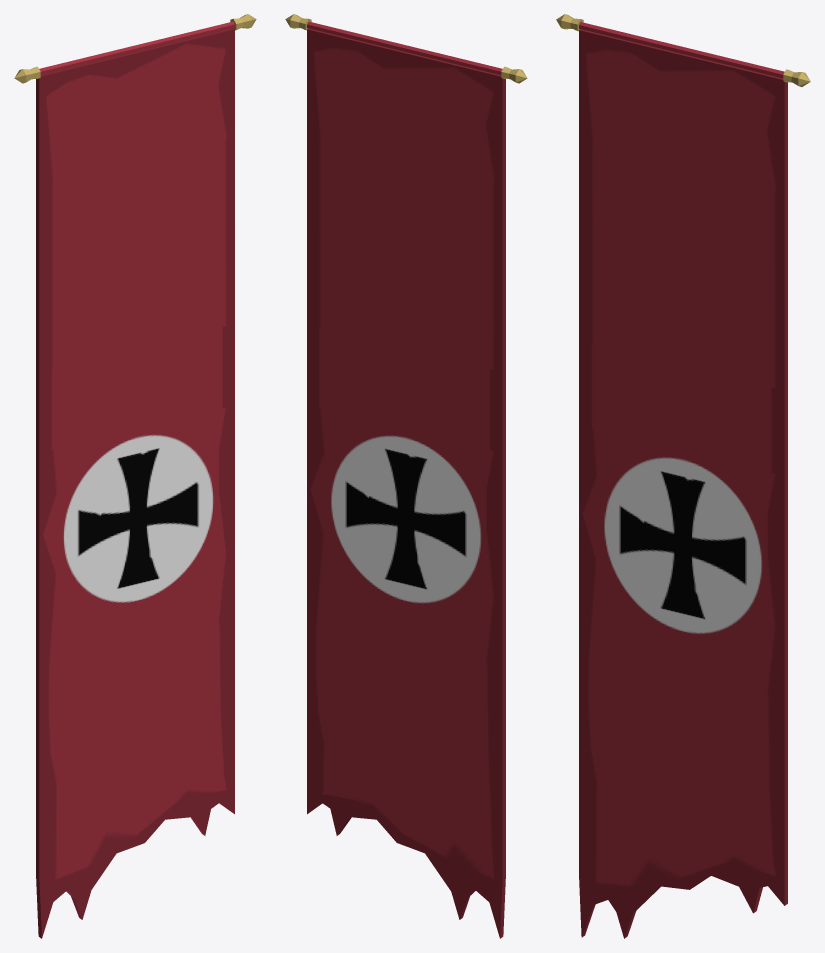
File: SM_Env_Flag_Long_Ripped_Germany_A.fbx
The picture shows the model from 3 angles, left to right: view 1: azimuth 30°, elevation 25°; view 2: azimuth 150°, elevation 25°; view 3: azimuth 330°, elevation 25°; orthographic projection. The views are drawn at different scales.
Visible parts, largest first — view 1: SM_Env_Flag_Long_Ripped_Germany_A; view 2: SM_Env_Flag_Long_Ripped_Germany_A; view 3: SM_Env_Flag_Long_Ripped_Germany_A.
Part boxes in pixels (x1=…): SM_Env_Flag_Long_Ripped_Germany_A: x1=14, y1=14, x2=256, y2=938; SM_Env_Flag_Long_Ripped_Germany_A: x1=285, y1=14, x2=527, y2=938; SM_Env_Flag_Long_Ripped_Germany_A: x1=556, y1=14, x2=810, y2=938.
Size of the model in its own units: 0.0125 by 0.043 by 0.000625.
